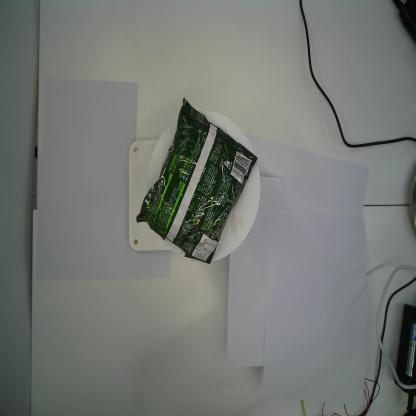Instant Noodles: (136, 97, 257, 265)
